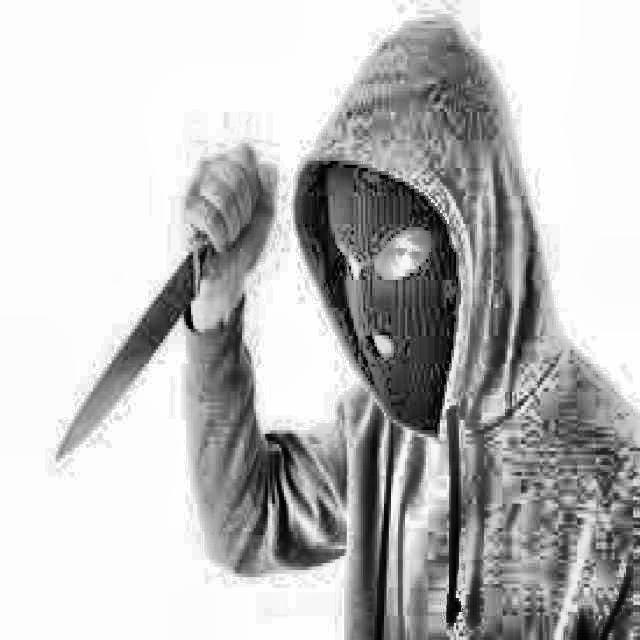pisau: (29, 148, 276, 459)
robbery: (18, 11, 639, 639)
